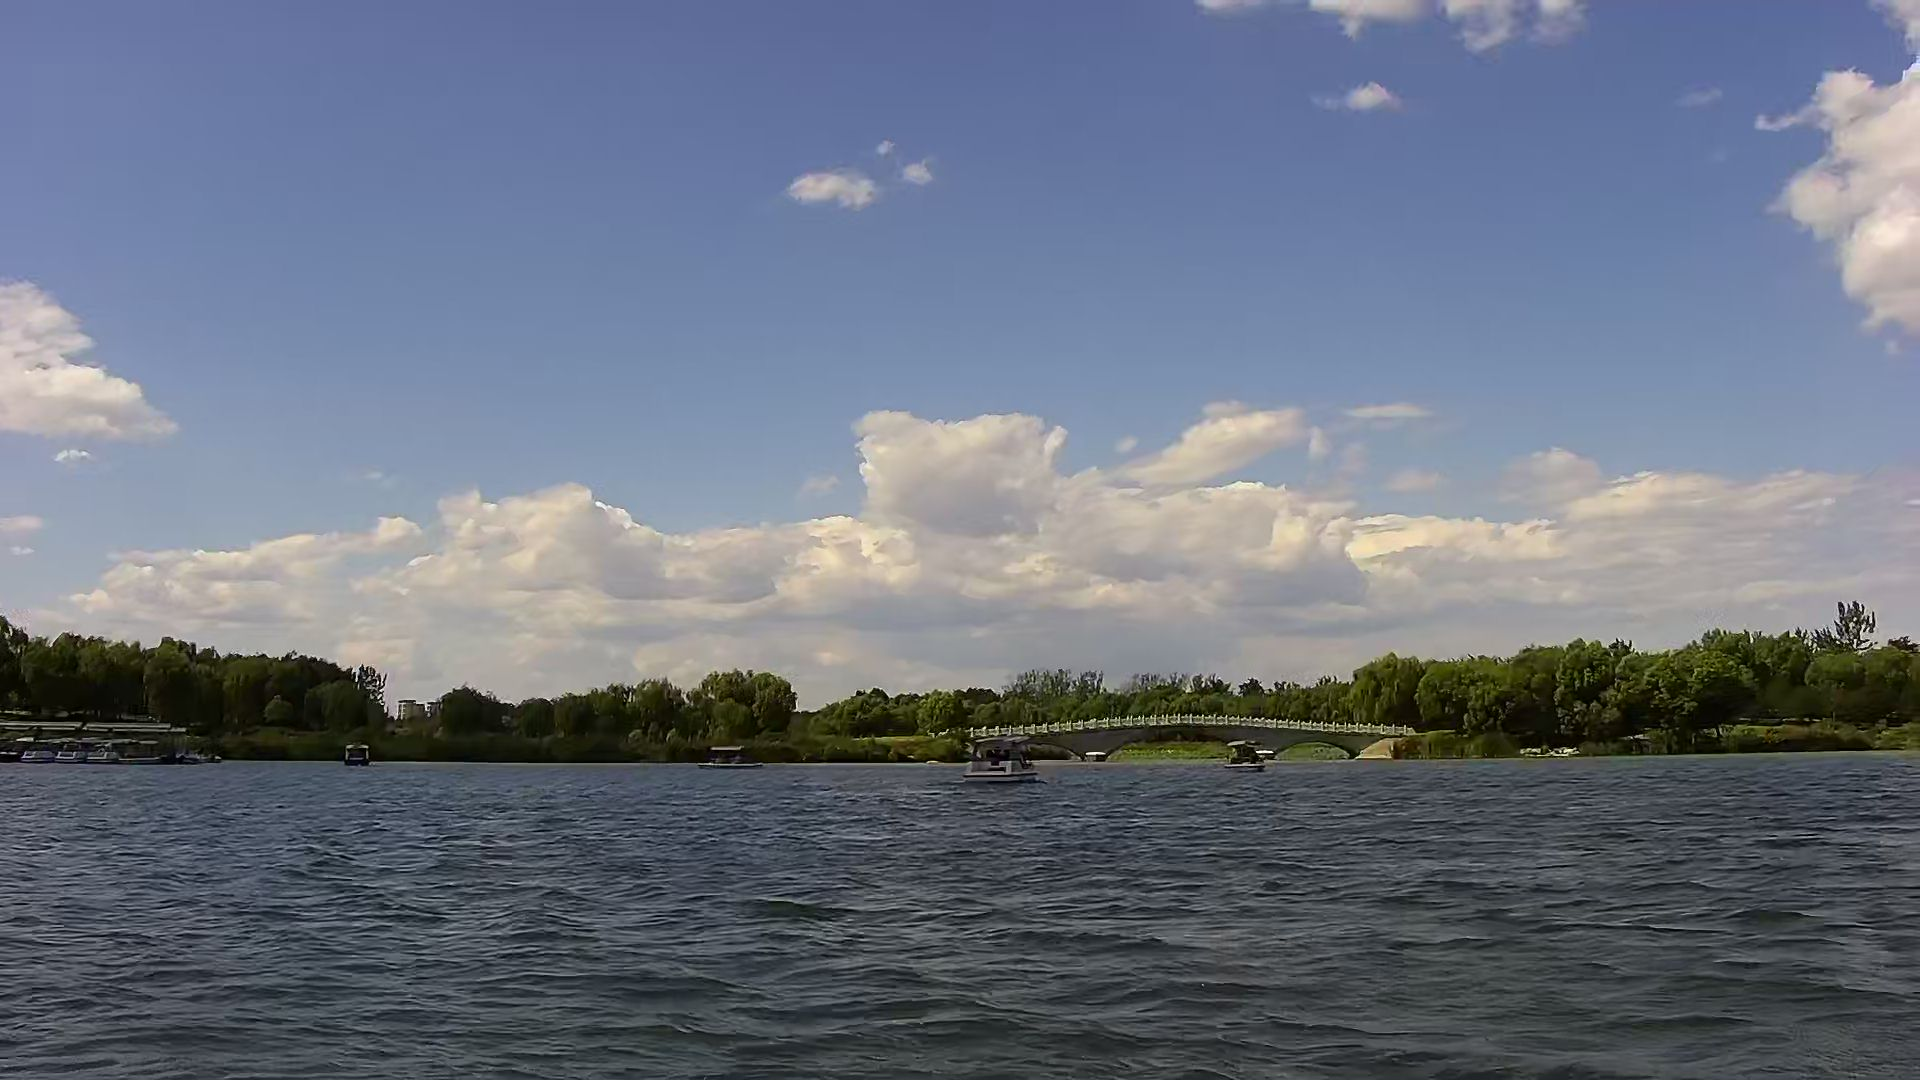boat: (953, 736, 1044, 793), (694, 742, 762, 775), (1217, 740, 1279, 774), (328, 740, 378, 767)
bridge: (938, 712, 1427, 760)
